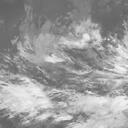cyclone: (36, 38, 103, 101)
